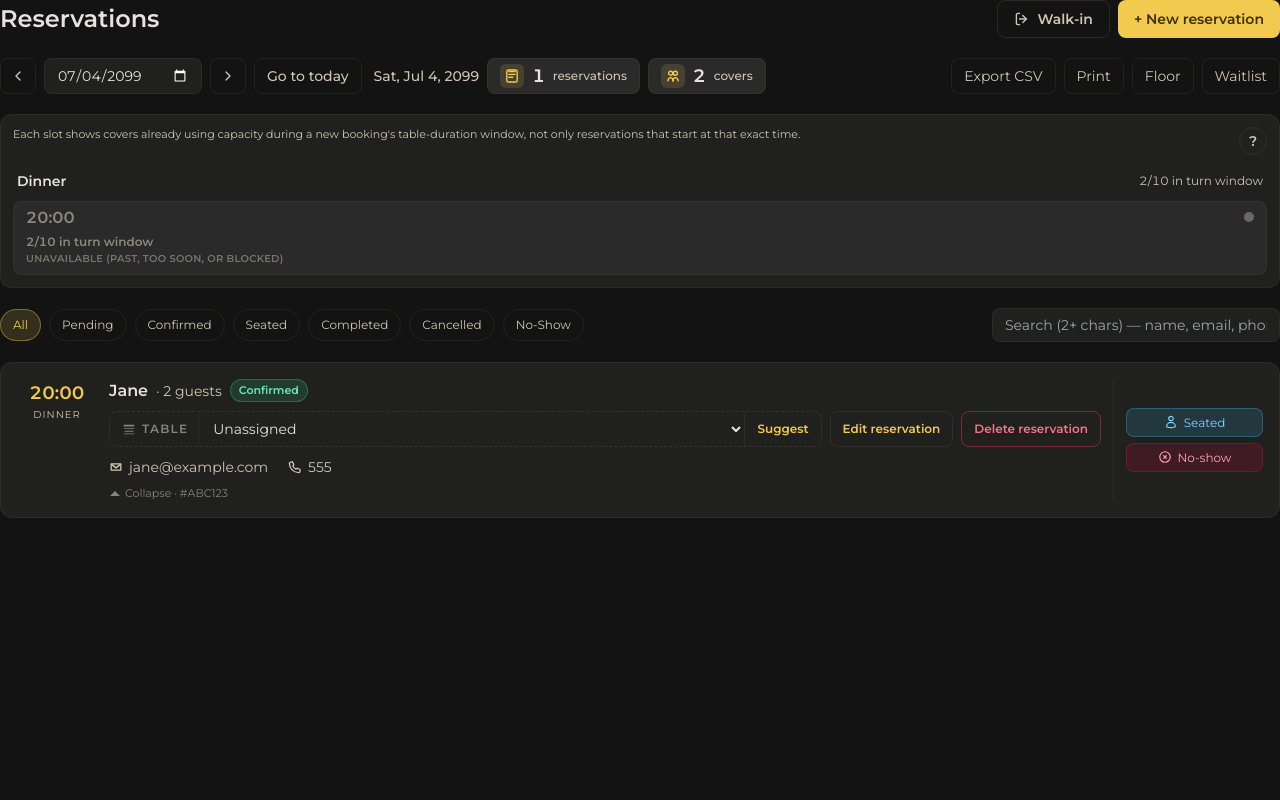
it: ReservationsPage floor opening › disables stop online booking when the selected slot is no longer active
This screenshot has width=1280, height=800.
Click the button with aria-label "20:00: 2/10 covers in turn window · 8 left online. Unavailab" at (50, 218), box [13,201,1267,274]
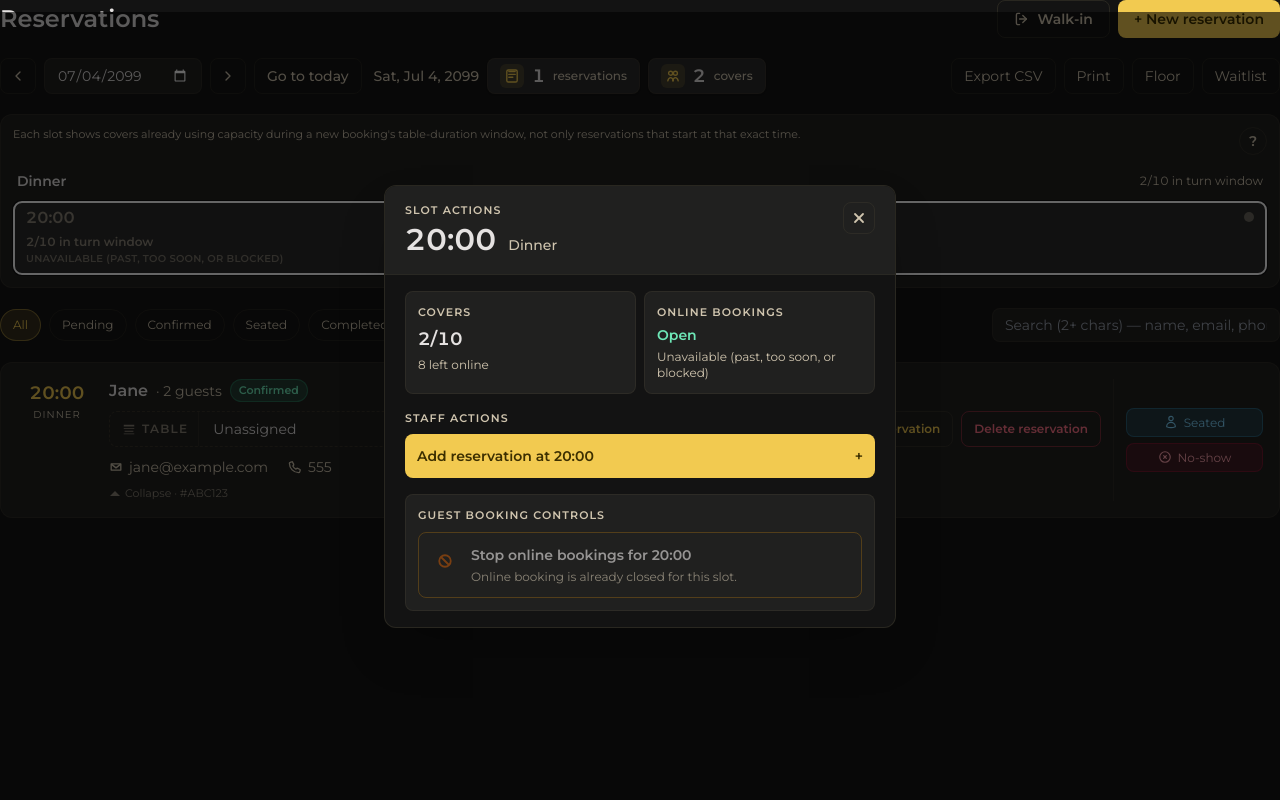
Now the button "Stop online bookings for 20:00" is disabled, box [418,532,862,598]
